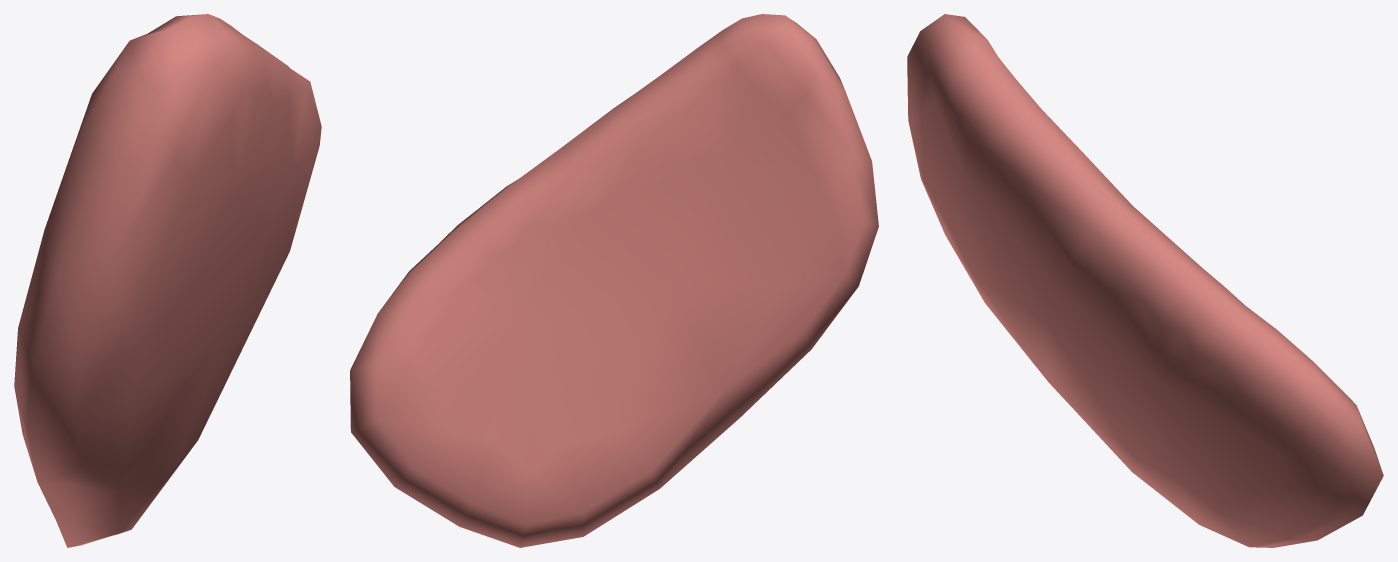
3 renders of one model, left to right at view 1: azimuth 30°, elevation 25°; view 2: azimuth 150°, elevation 25°; view 3: azimuth 270°, elevation 25°, orthographic. The views are drawn at different scales.
Parts seen in each view (by area): view 1: ZA_07f803e7d33a1fec; view 2: ZA_07f803e7d33a1fec; view 3: ZA_07f803e7d33a1fec.
Boxes of the visible parts, x1,y1,x2,y2 form: ZA_07f803e7d33a1fec: (14,14,321,547); ZA_07f803e7d33a1fec: (350,14,878,547); ZA_07f803e7d33a1fec: (907,14,1383,547).
Bounding box in the file's own units: 0.00276 × 0.00347 × 0.00314.
